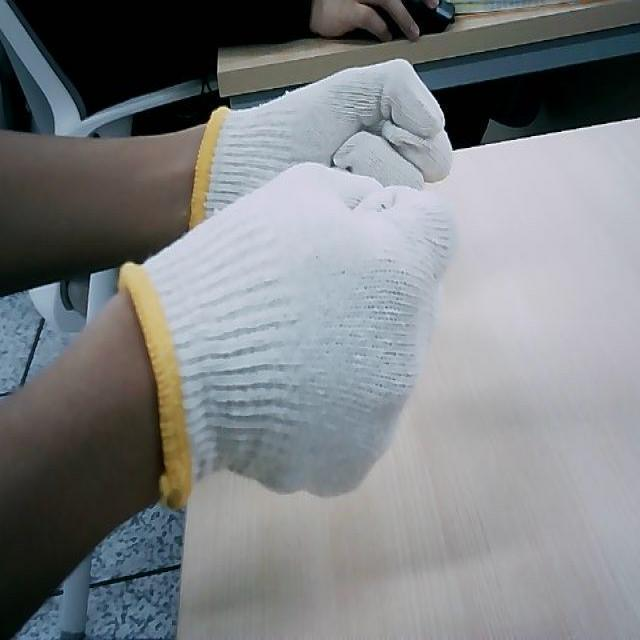gloved_hand: (118, 163, 458, 506), (197, 57, 458, 163)
